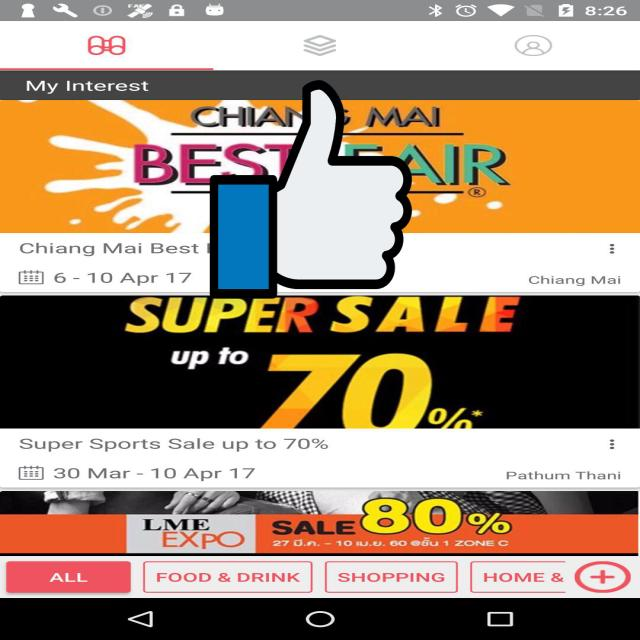privacy zuckering: (210, 75, 412, 304)
